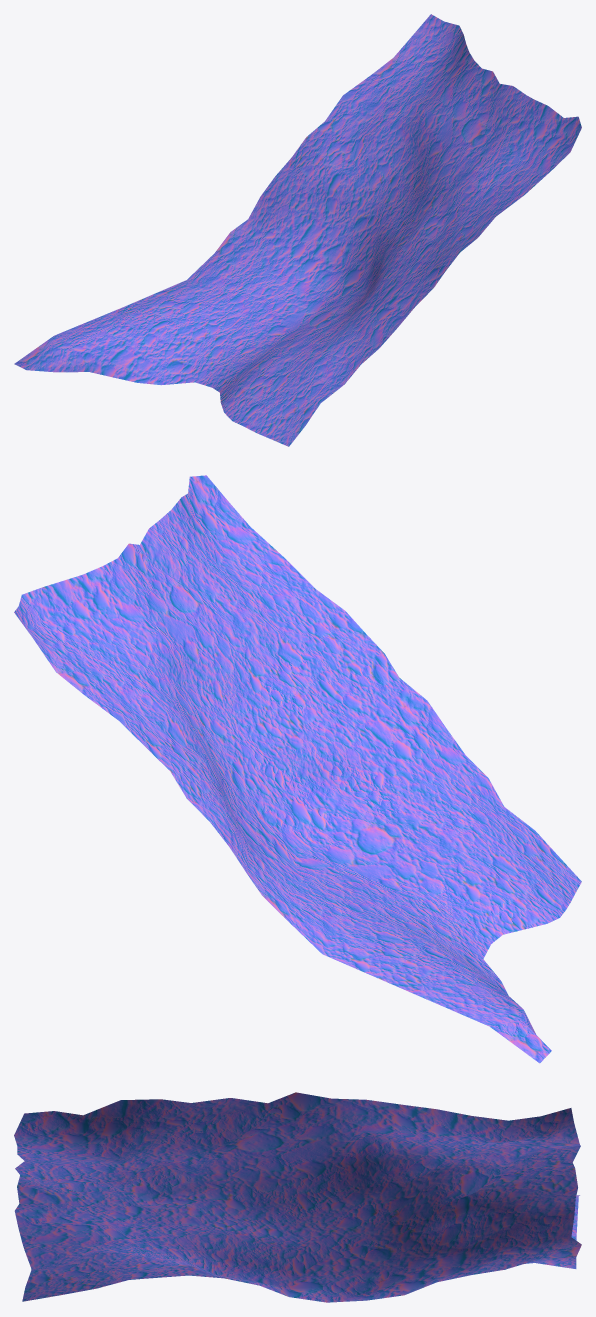
The model's file is rubble.fbx.
3 renders of one model, top to bottom at view 1: azimuth 30°, elevation 25°; view 2: azimuth 150°, elevation 25°; view 3: azimuth 270°, elevation 25°, orthographic. The views are drawn at different scales.
Visible parts, largest first — view 1: Plane; view 2: Plane; view 3: Plane.
Part boxes in pixels (box(x1,y1,x2,y2)): Plane: box(14, 14, 581, 446); Plane: box(14, 475, 581, 1063); Plane: box(14, 1092, 581, 1302).
Size of the model in its own units: 587 by 333 by 374.
